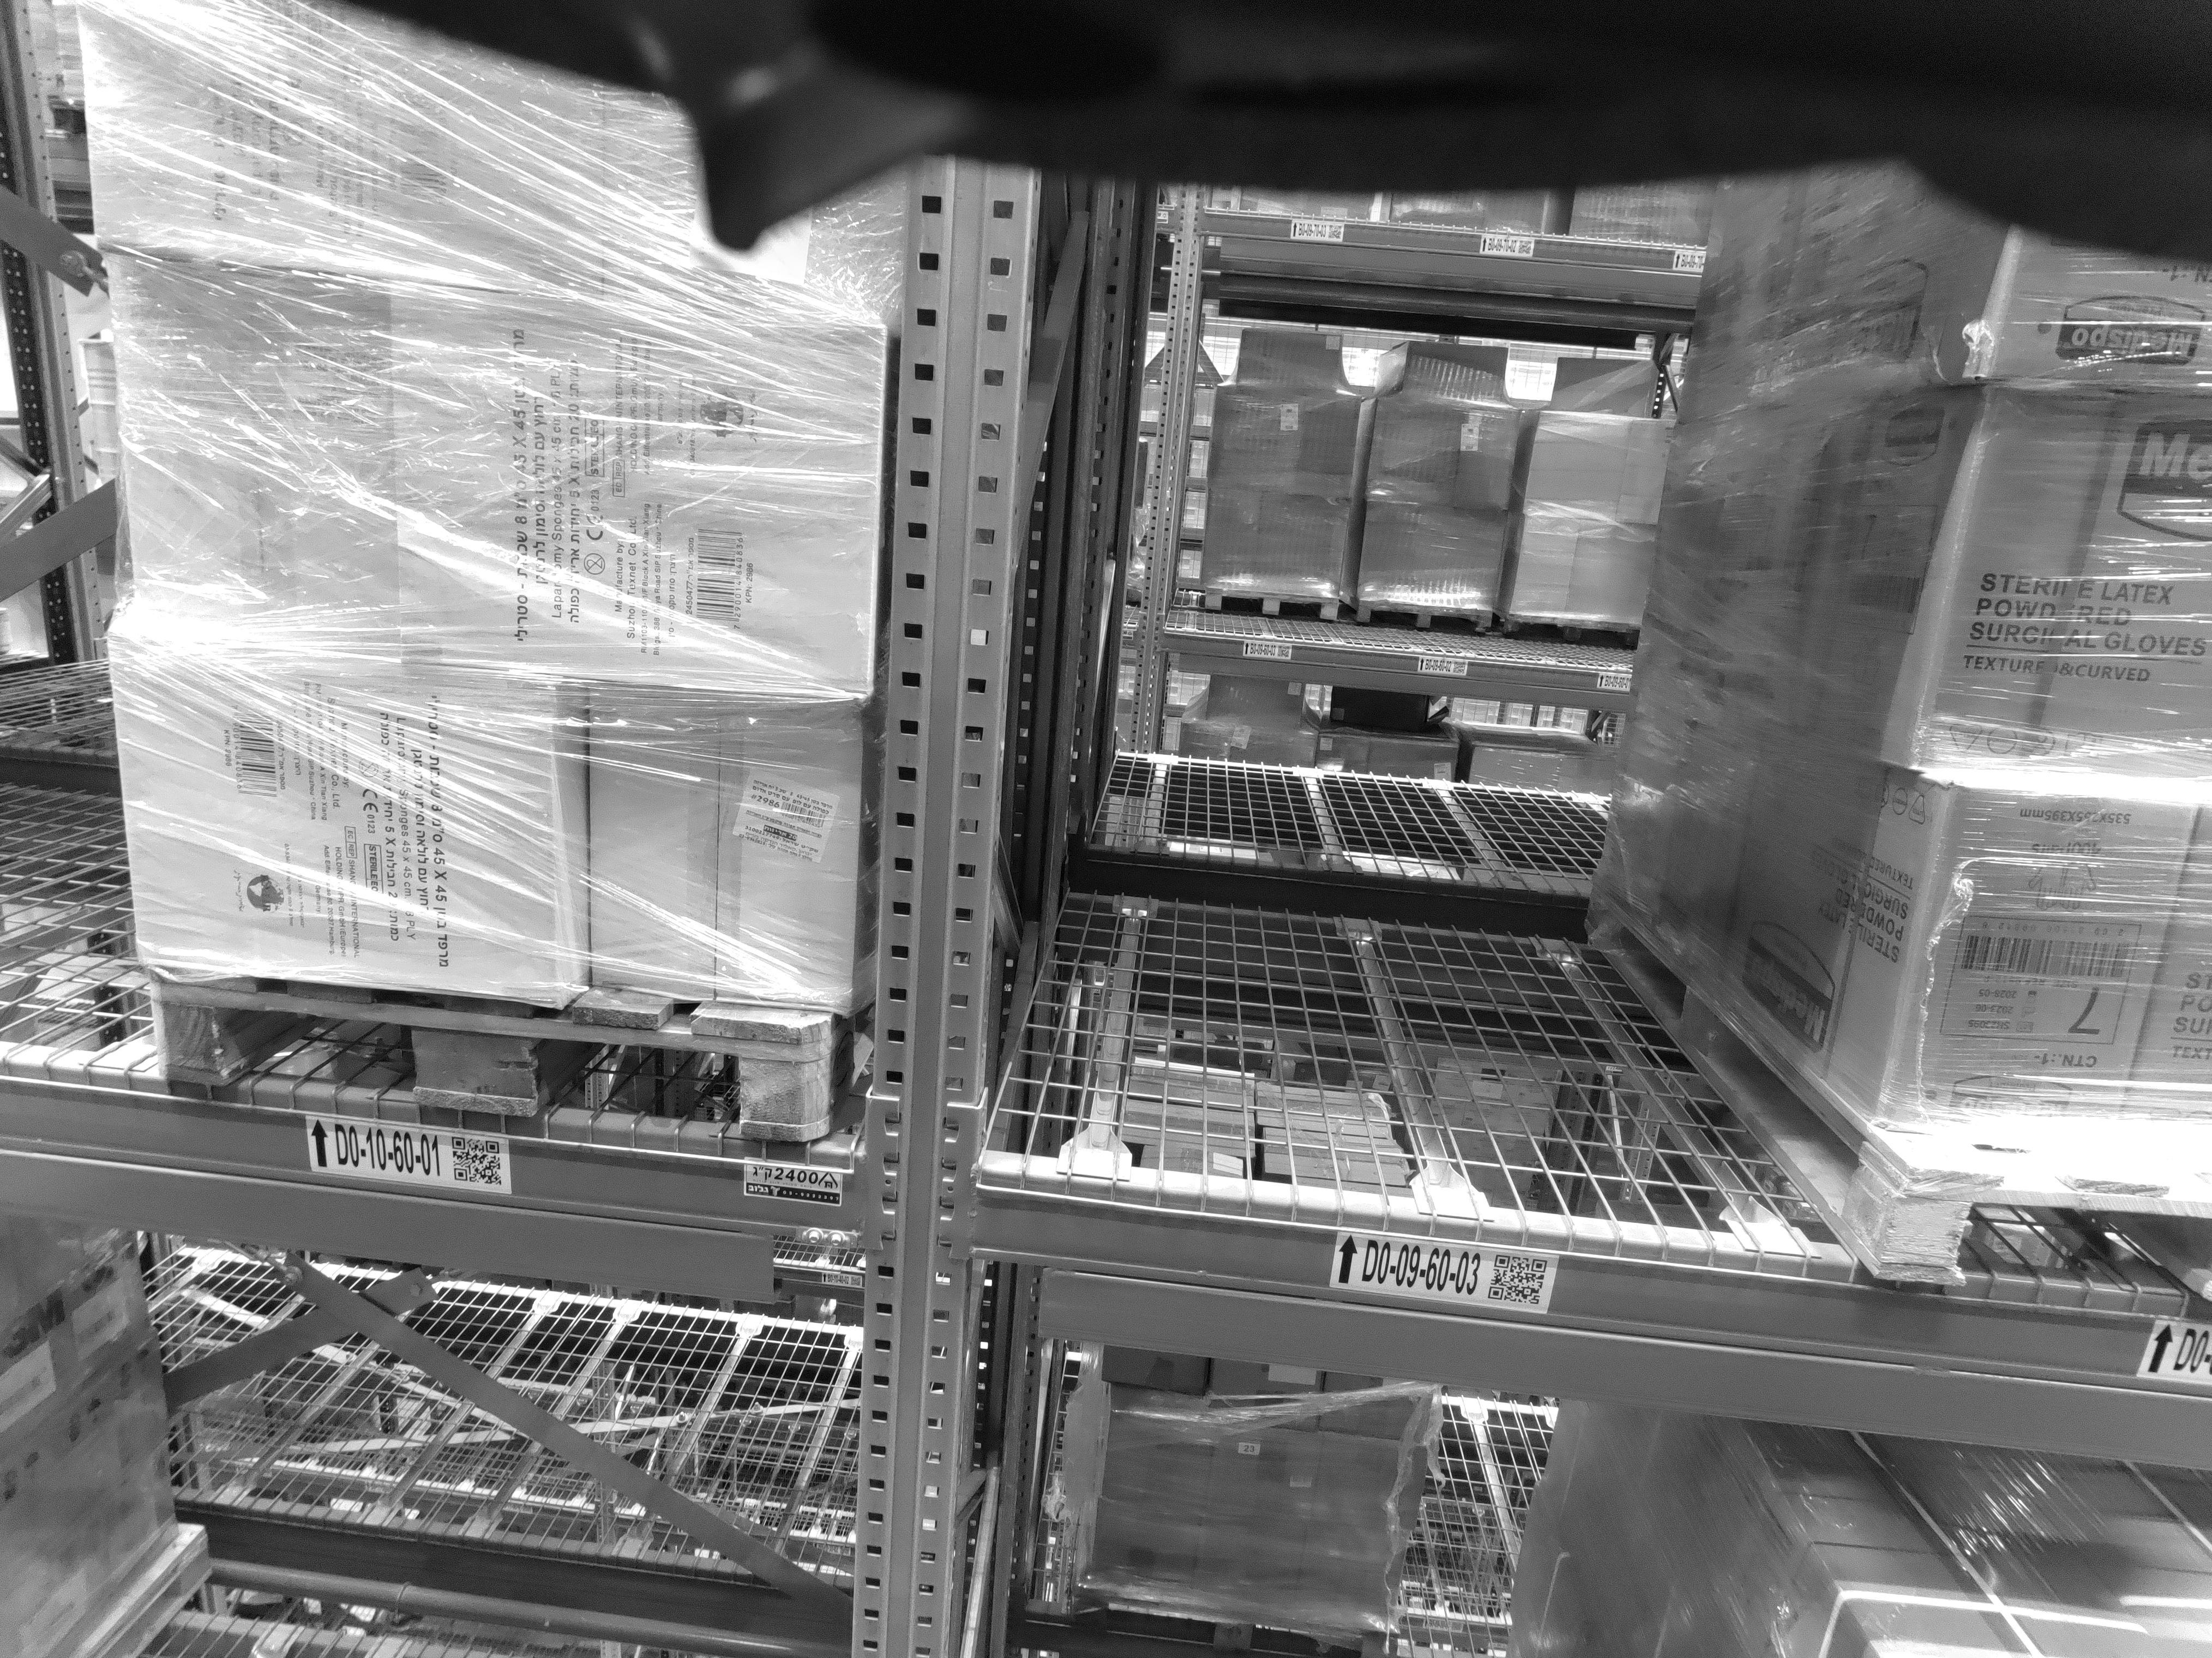empty-shelf: (1172, 202, 1611, 1139), (0, 136, 87, 1008)
